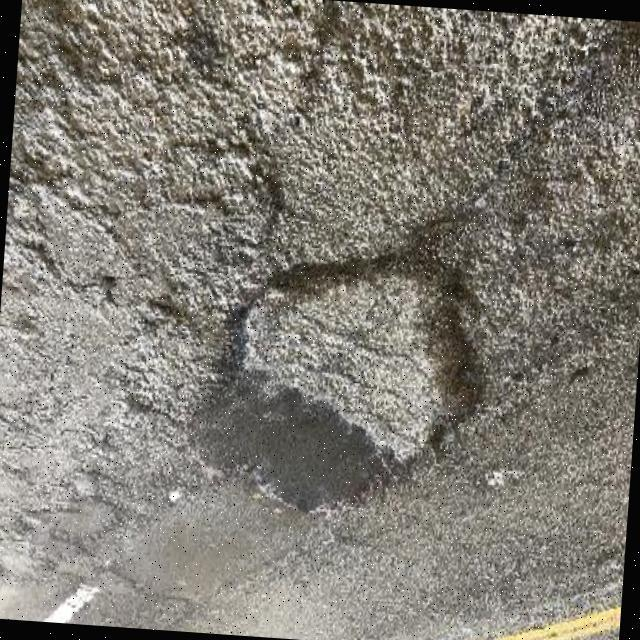Pothole: (189, 248, 485, 513)
